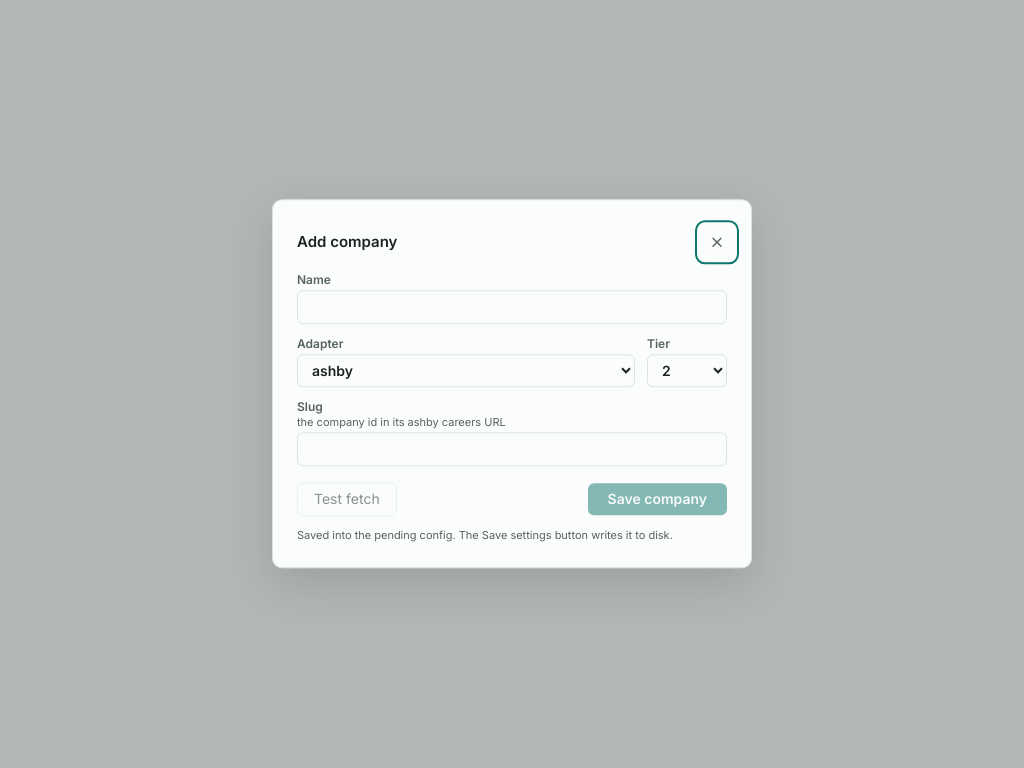
Scenario: CompanyDialog › shows the error when Test fails
Type "Acme" into the field named "Company name" at (512, 307), box x1=297 y1=290 x2=727 y2=324
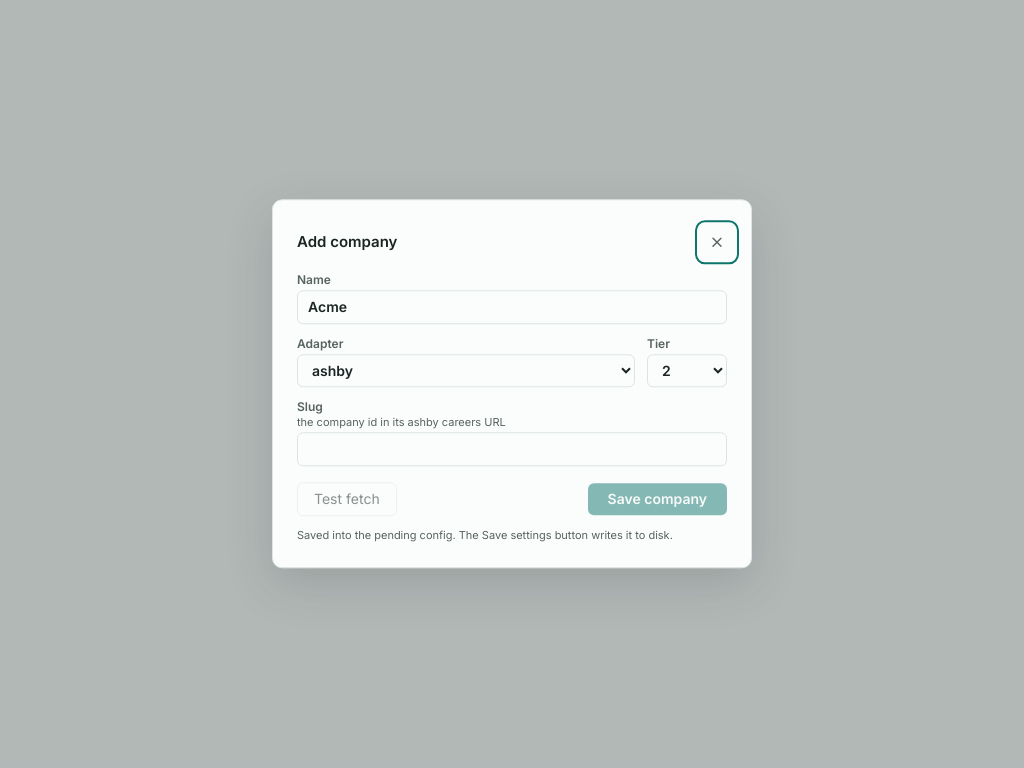
Type "nope" into the field labelled "Slug" at (512, 449), box x1=297 y1=432 x2=727 y2=466
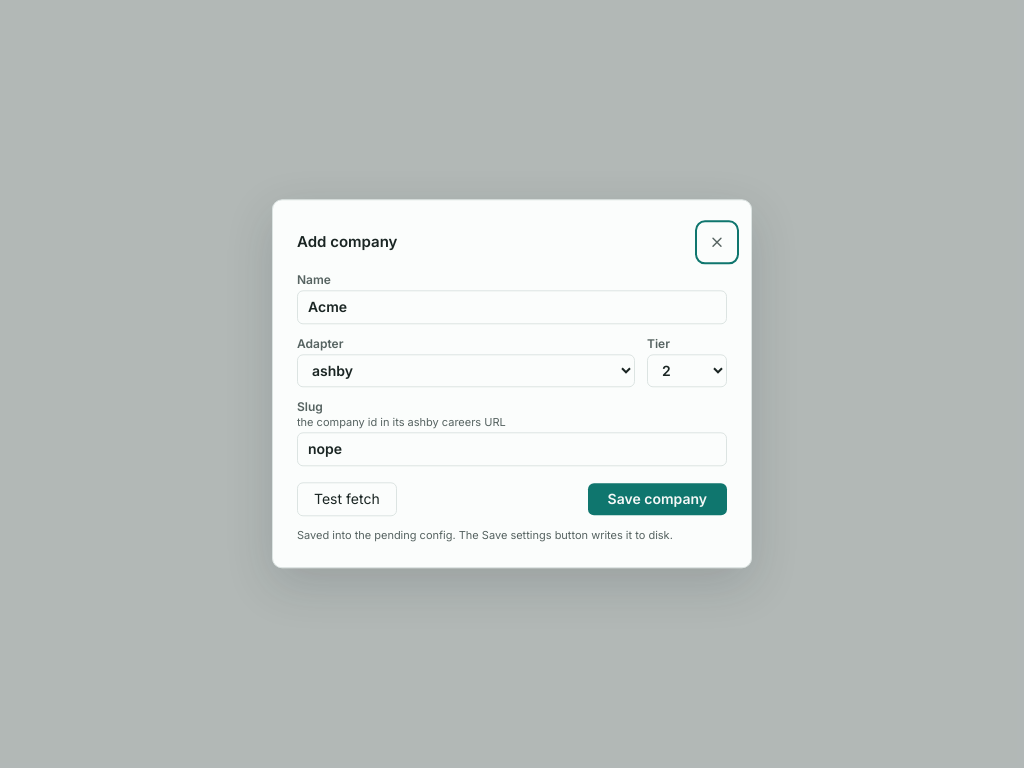
Click the button "Test fetch" at (347, 499), box x1=297 y1=482 x2=397 y2=516
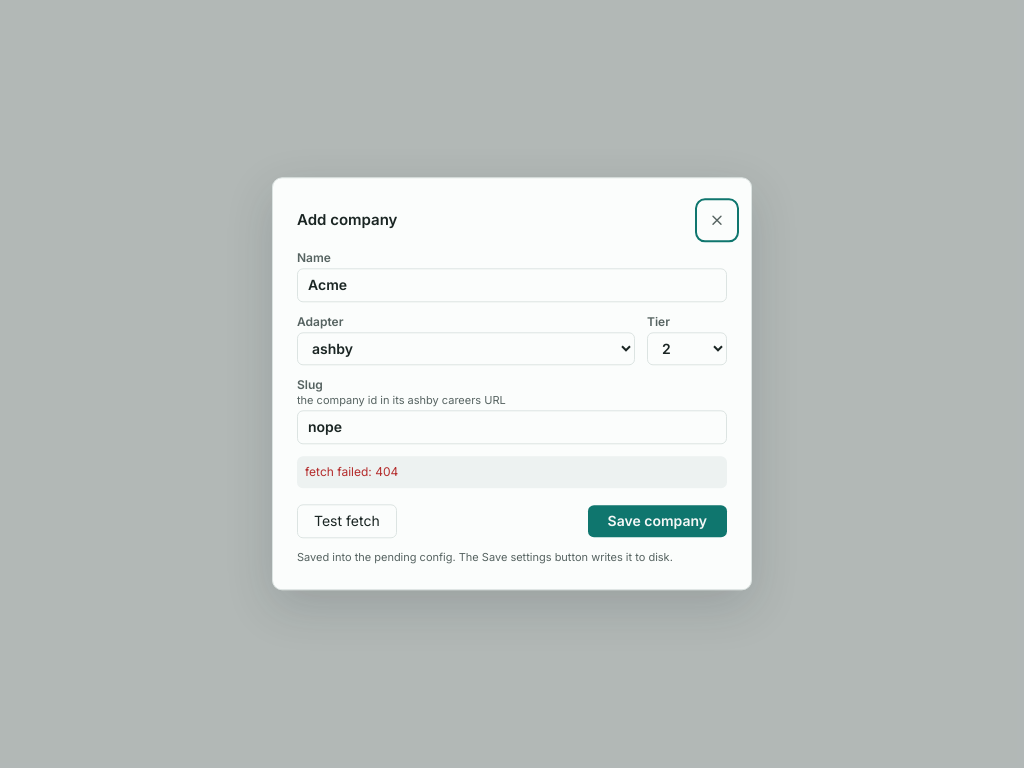
Expected: the text "fetch failed: 404" is shown, x1=297 y1=456 x2=727 y2=488
